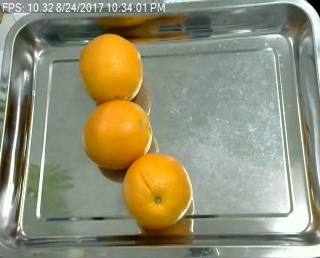Orange: (123, 152, 192, 231), (82, 100, 153, 170), (79, 33, 145, 106)
